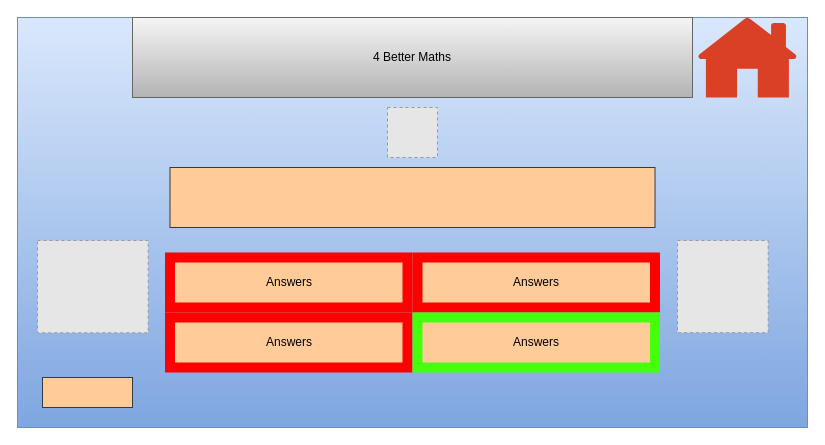
This 825x445 diagram has some shape labels left out. Grey dashed boxes stand in for pictures. The centre of each missing label's shape, as x and y in pixels:
"Exit" goes at point (87, 392).
"Questions" goes at point (412, 197).
